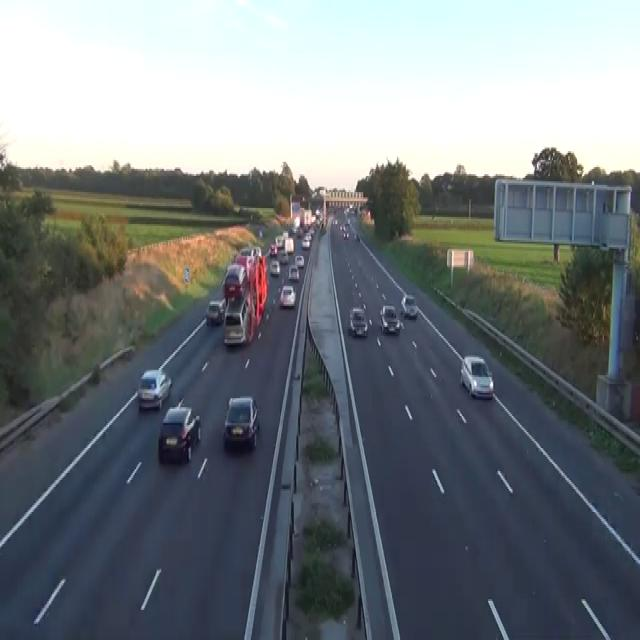Car: (158, 402, 201, 464), (223, 396, 259, 450), (459, 354, 494, 398), (137, 368, 172, 409), (223, 293, 248, 345), (234, 245, 261, 281), (224, 263, 246, 301), (347, 306, 368, 338), (379, 304, 401, 334), (205, 299, 225, 325), (400, 294, 418, 318), (234, 245, 253, 267), (279, 284, 295, 308), (288, 263, 299, 281), (269, 260, 280, 276), (250, 246, 261, 262), (219, 297, 226, 322), (91, 362, 100, 380), (240, 245, 251, 256), (295, 254, 304, 267), (301, 236, 310, 249), (279, 251, 288, 263), (275, 235, 284, 247), (269, 244, 277, 256), (282, 229, 288, 240), (296, 226, 302, 236), (343, 230, 349, 238), (355, 233, 360, 242), (333, 217, 337, 226), (345, 217, 350, 224), (258, 230, 262, 237)
Truck: (222, 245, 267, 347)
